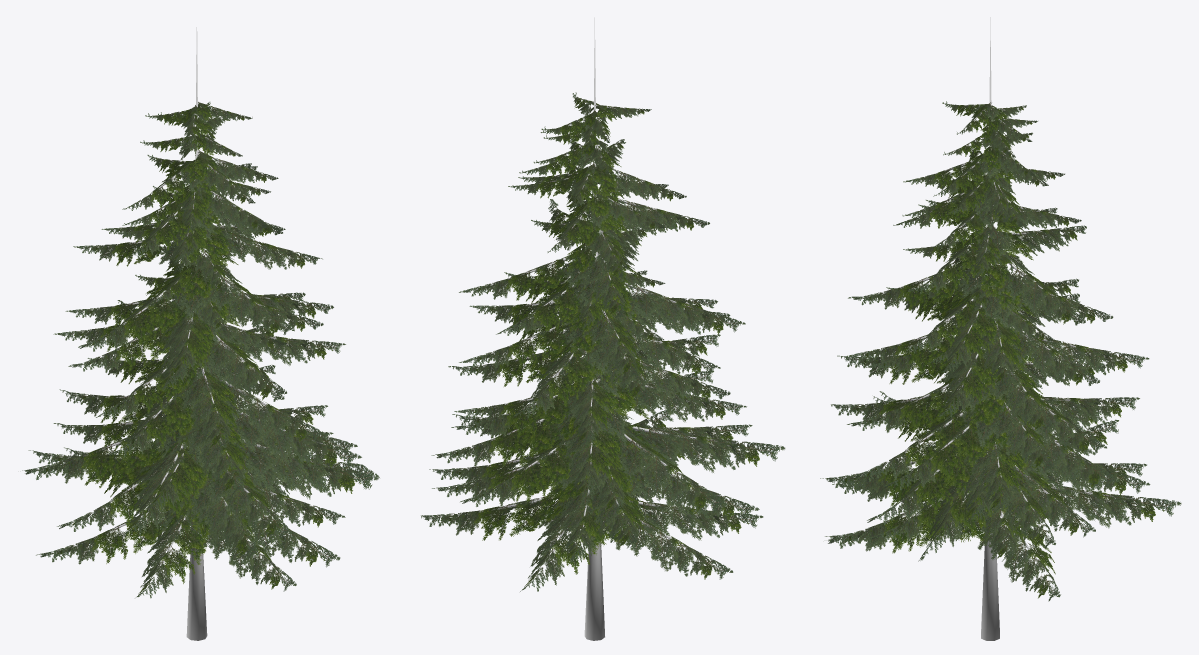
Rendered from Tree2.005.fbx.
3 renders of one model, left to right at view 1: azimuth 30°, elevation 25°; view 2: azimuth 150°, elevation 25°; view 3: azimuth 270°, elevation 25°, orthographic.
Parts seen in each view (by area): view 1: Tree2.005; view 2: Tree2.005; view 3: Tree2.005.
Part boxes in pixels (x1,y1,x2,y2): Tree2.005: (22,27,379,640); Tree2.005: (421,17,785,640); Tree2.005: (820,17,1181,640).
Bounding box in the file's own units: 1.61 × 3.07 × 1.64.
